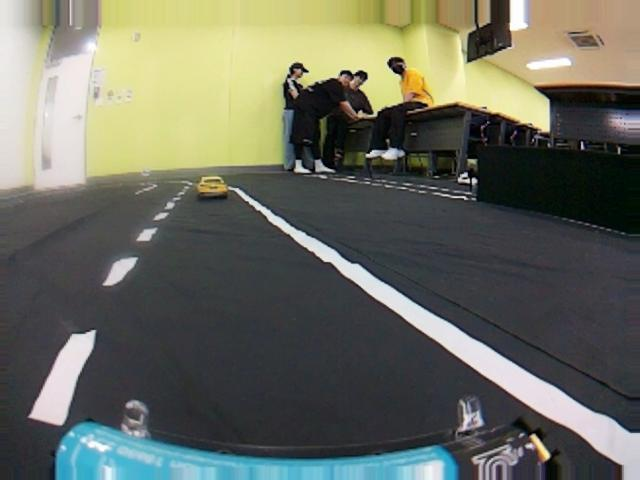car: (193, 173, 234, 197)
straight: (38, 199, 640, 479)
